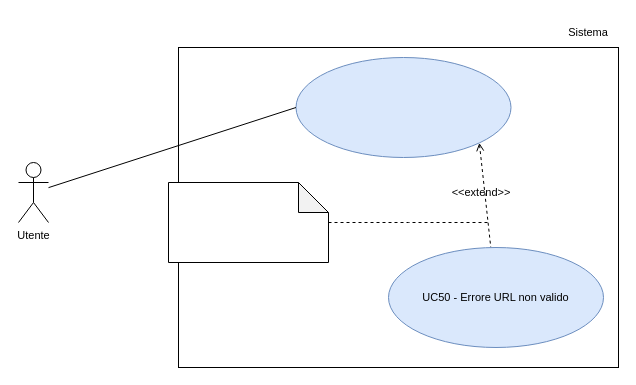
Some shapes in this 636 by 385 pixel diagram are drawn without their labels. The shapes that lost their labels are listed below. From the top down, each one's centre as x and y in pixels, then its label:
the point at 403,107: UC49 - Inserimento immagine
the point at 248,222: Condizione L'URL o il percorso fornito non è valido
